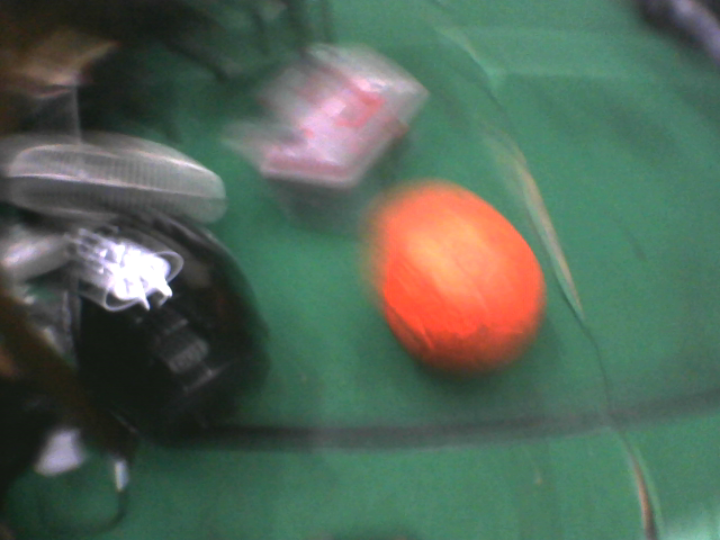bola: (367, 177, 556, 394)
